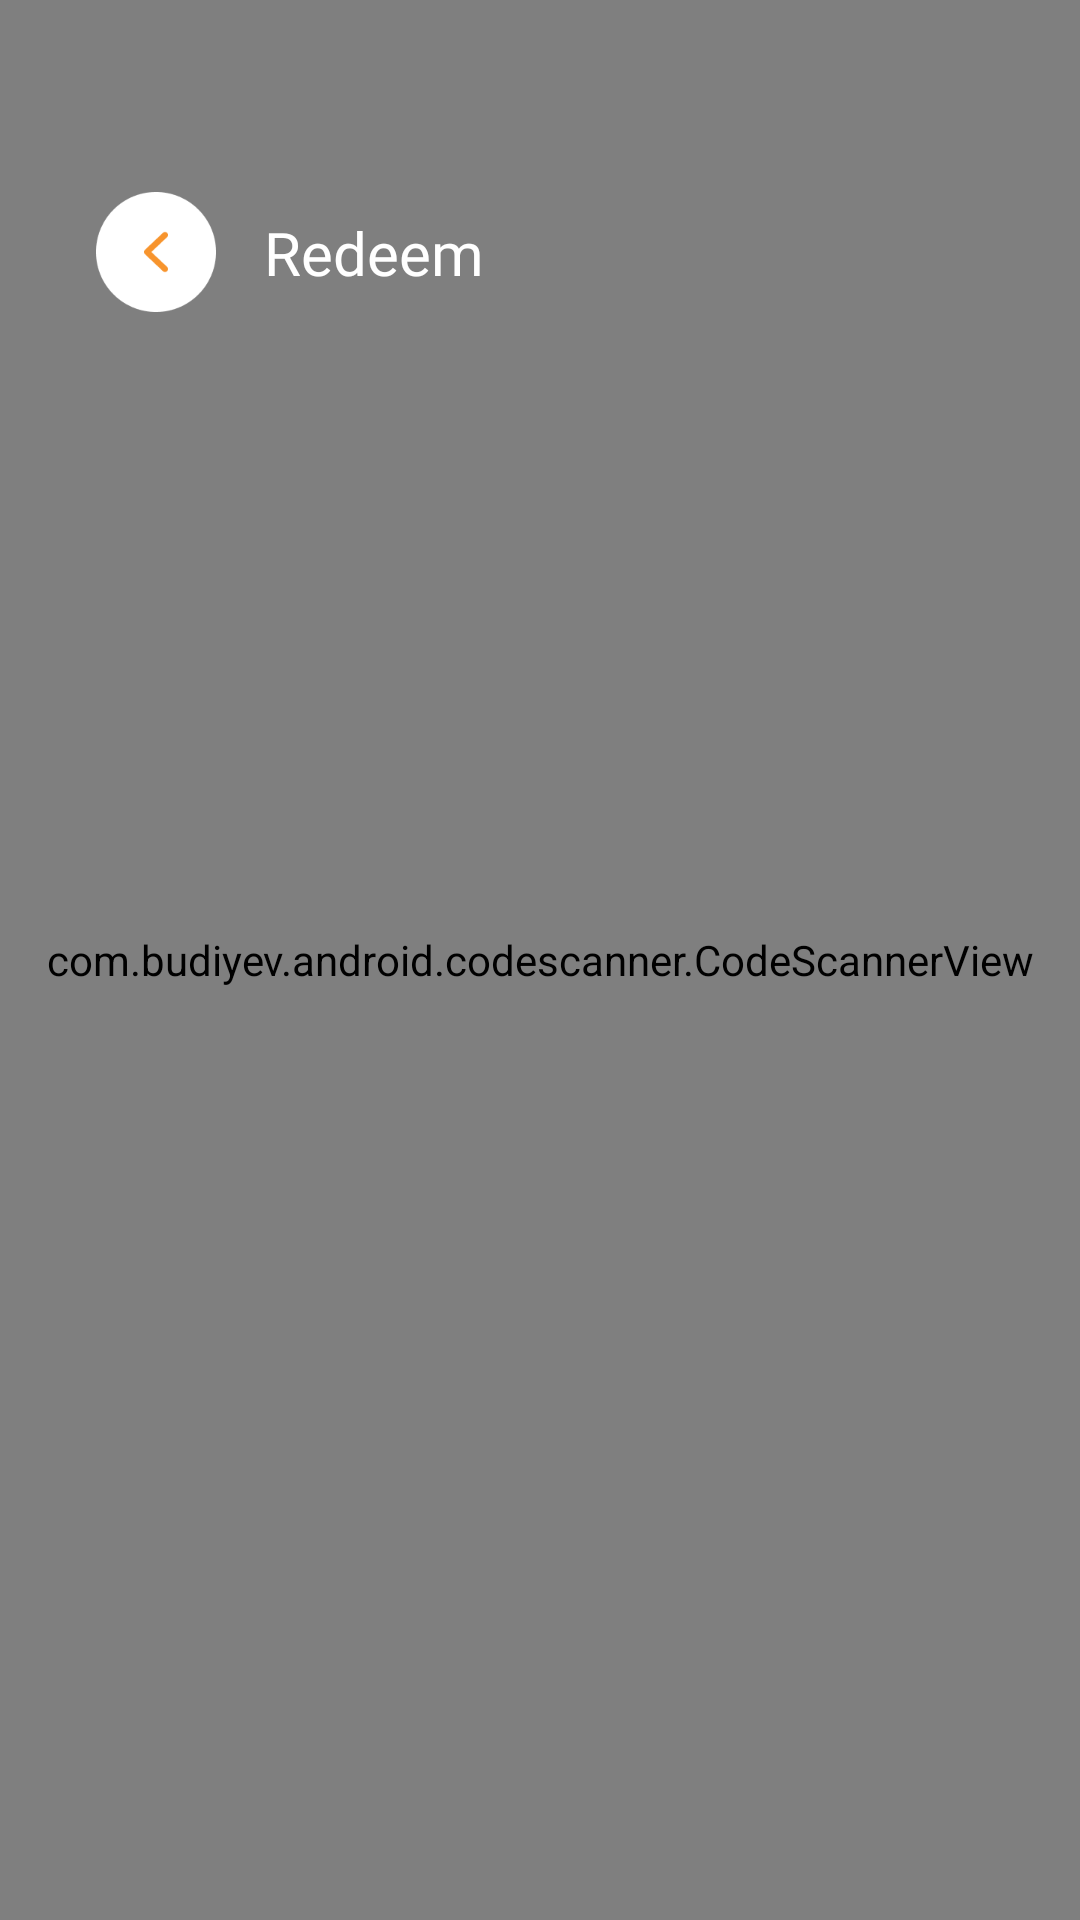

Named icons in this screenshot (1080px×1920px) and their bounding boxes, [x1, y1, x2, y2]:
arrow back: [96, 192, 216, 312]
